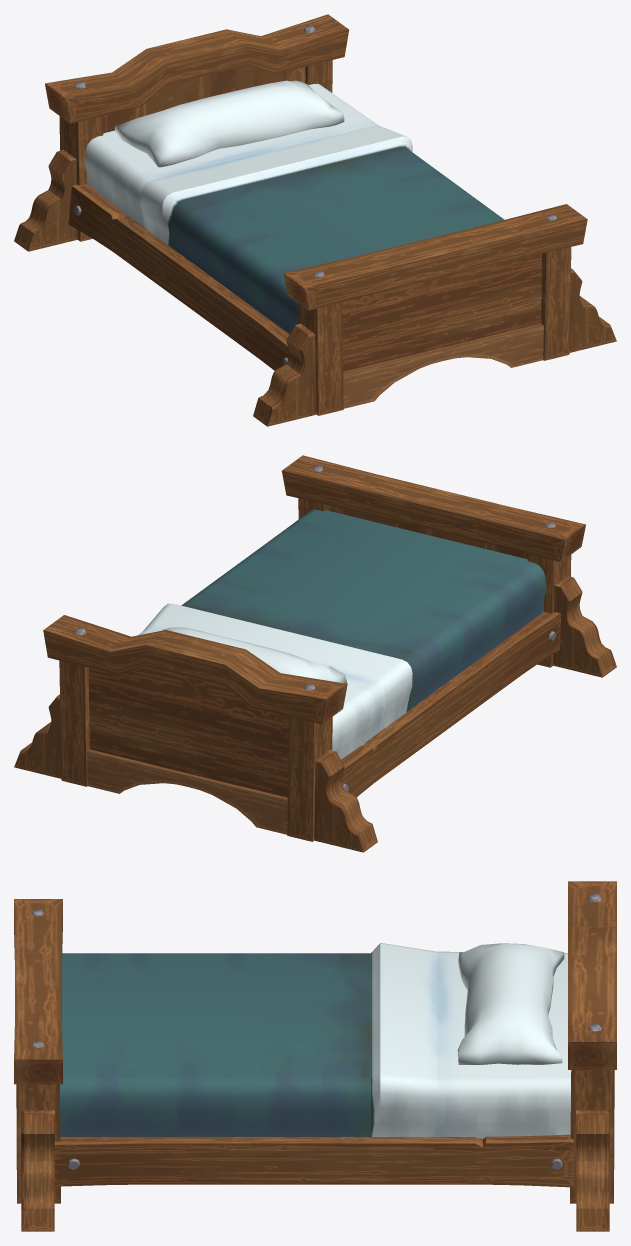
File: Bed_Twin1.glb
3 views of the same model, one above another, from view 1: azimuth 30°, elevation 25°; view 2: azimuth 150°, elevation 25°; view 3: azimuth 270°, elevation 25° (orthographic). The views are drawn at different scales.
Visible parts, largest first — view 1: Bed_Twin1; view 2: Bed_Twin1; view 3: Bed_Twin1.
Boxes of the visible parts, x1,y1,x2,y2 form: Bed_Twin1: [14, 14, 616, 426]; Bed_Twin1: [14, 455, 616, 852]; Bed_Twin1: [14, 881, 616, 1231].
Size of the model in its own units: 1.88 by 0.805 by 2.41.
3 materials, 3 textured.
